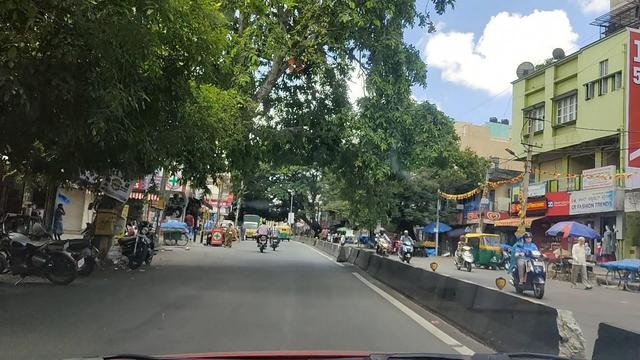RoadDamages: (146, 301, 179, 335)
